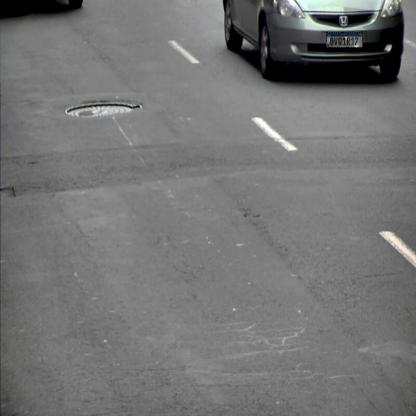PlacaM: (326, 32, 363, 48)
